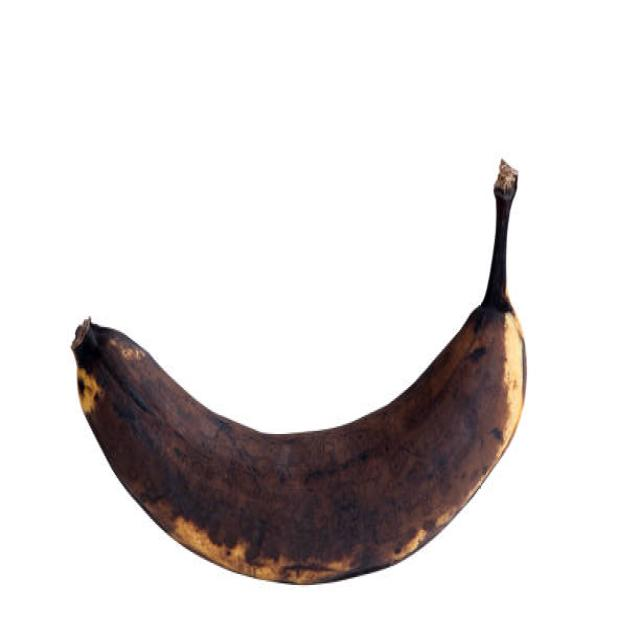Rotten: (71, 162, 526, 586)
